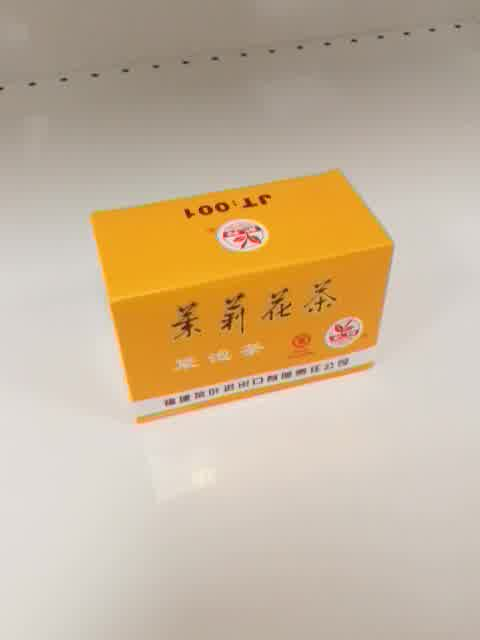jasminetea: (91, 168, 396, 425)
